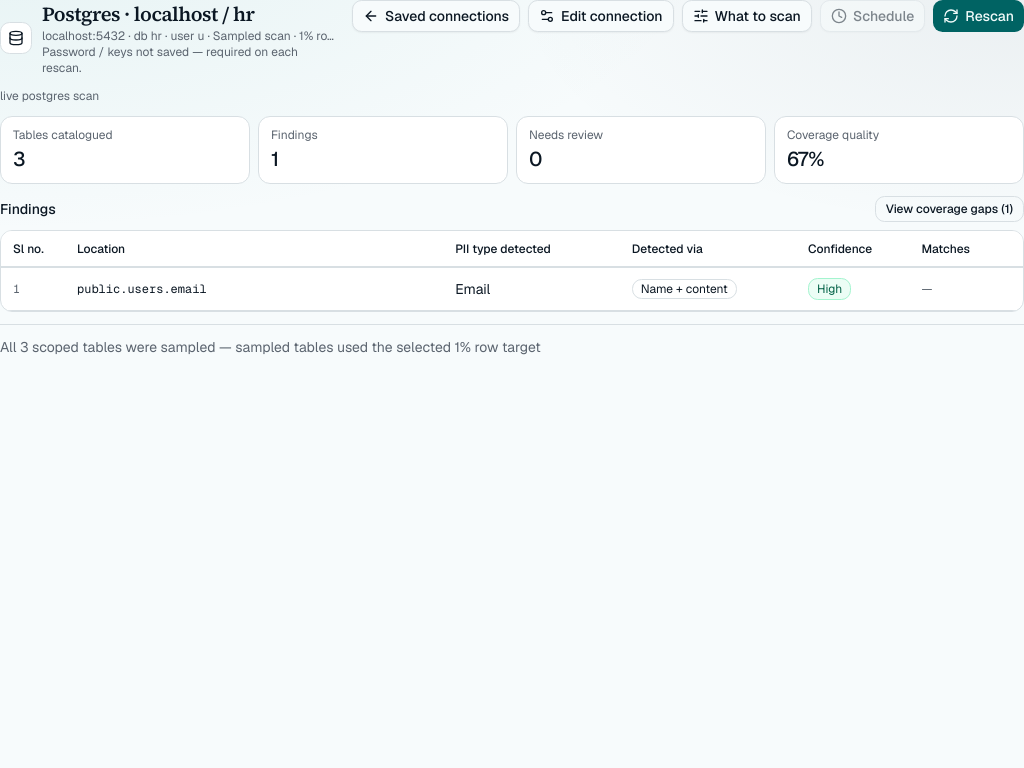
Scenario: SavedConnectionWorkspace › opens credentials panel when rescanning without stored secrets
Check: the text "Password / keys not saved — required on each rescan." is shown, box [42, 44, 340, 76]
Click the button "Rescan". click: point(979, 16)
box: [933, 0, 1023, 32]
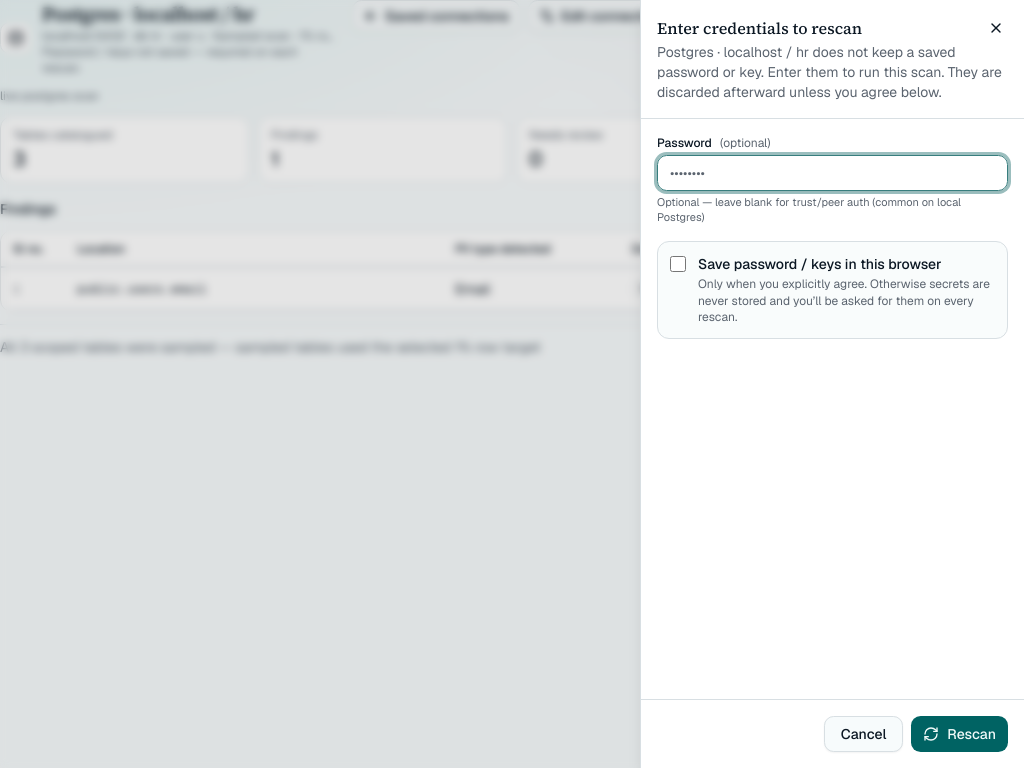
Check: the heading "Enter credentials to rescan" is shown, box [657, 17, 862, 39]
Check: the checkbox labelled "Save password / keys in this browser" is shown, box [670, 256, 686, 272]
